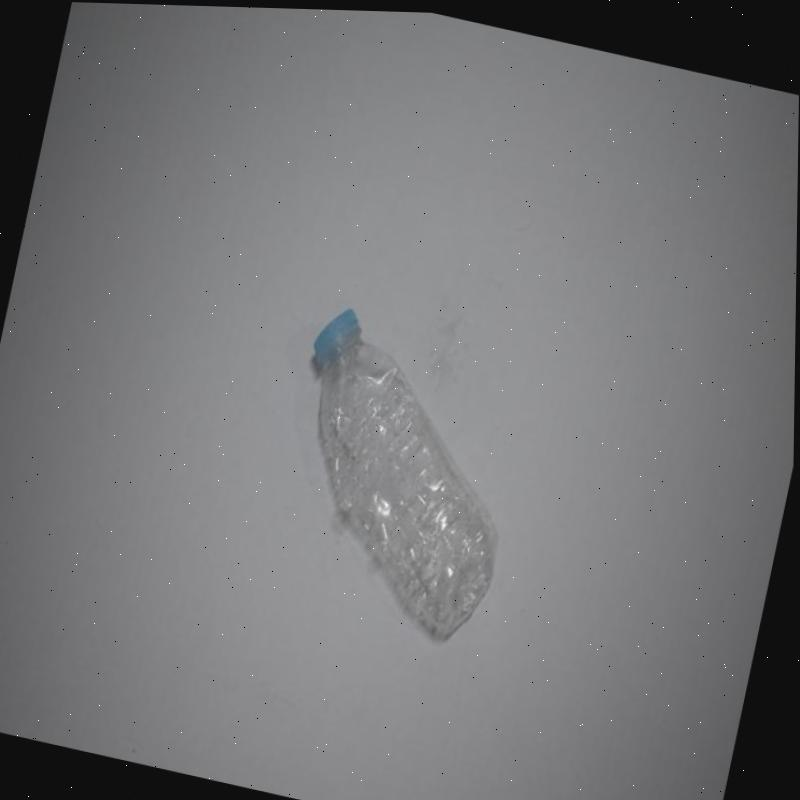botella: (257, 297, 540, 647)
